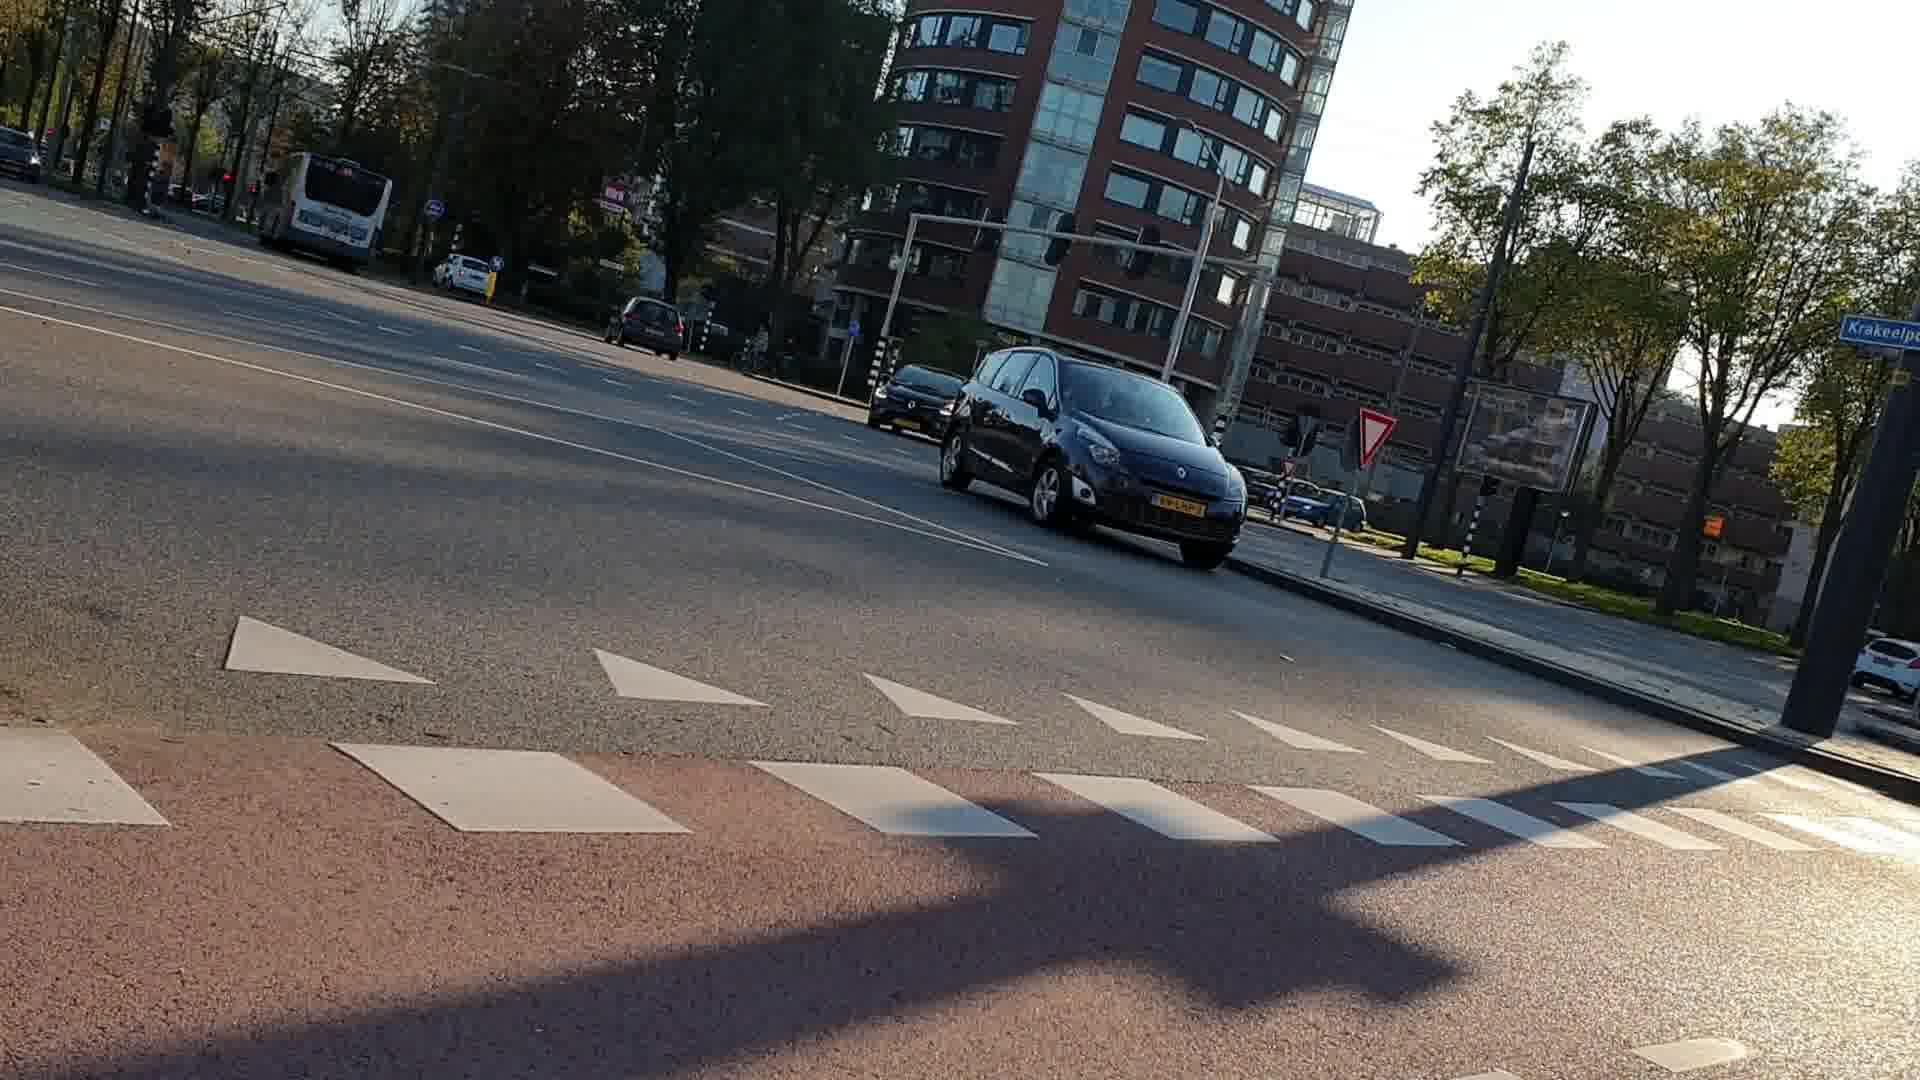car: (972, 347, 1245, 579)
